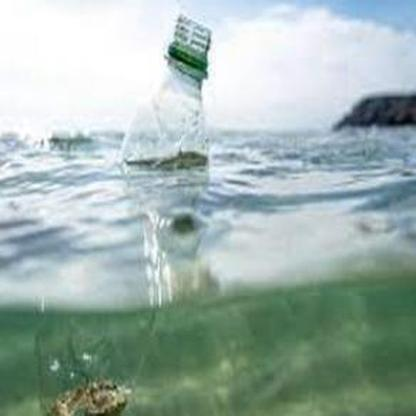plastic bottle: (112, 14, 210, 166)
